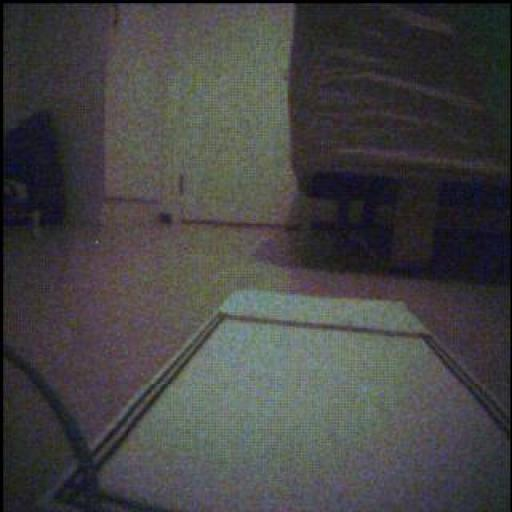pad: (43, 292, 512, 512)
